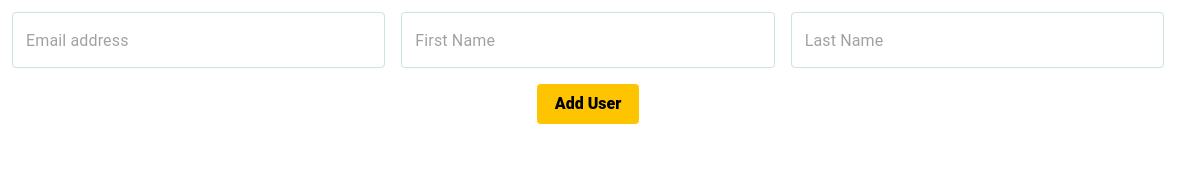
Add User Form test cases › Should render all of the validation messages when someone click on submit without entering any information
Expected: the text "Email is required" is not shown
Expected: the text "First name is required" is not shown
Click the button "Add User" at (588, 104), box [537,84,639,124]
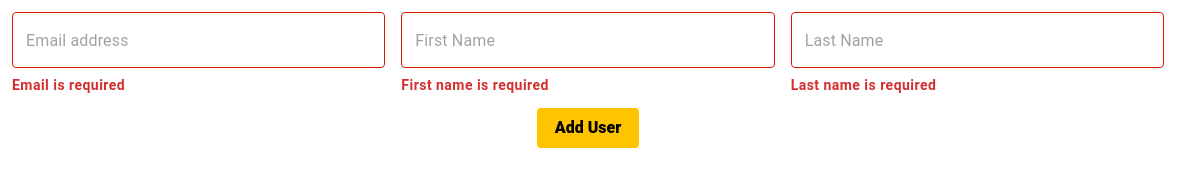
Expected: the text "Email is required" is shown, [12,77,125,93]
Expected: the text "First name is required" is shown, [401,77,549,93]
Expected: the text "Last name is required" is shown, [791,77,936,93]
